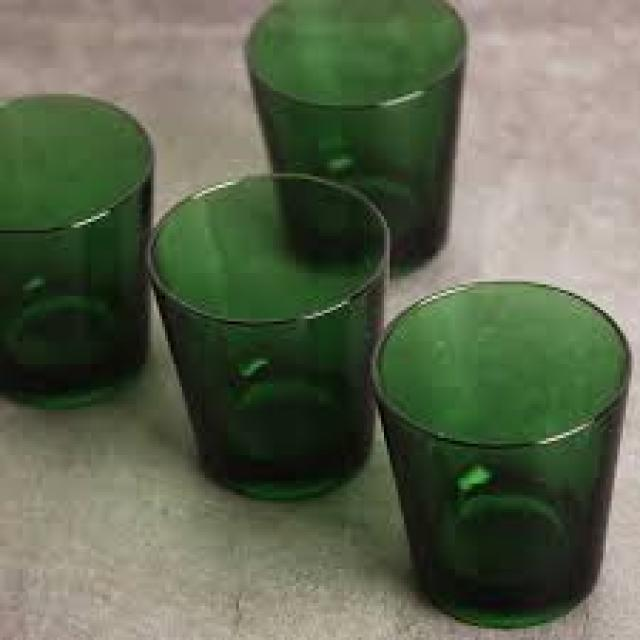glass: (364, 279, 632, 629), (142, 171, 387, 498), (241, 0, 466, 267), (0, 91, 154, 407)
